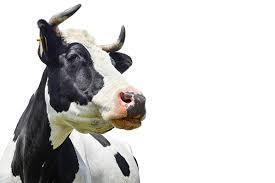cow: (0, 20, 147, 183)
